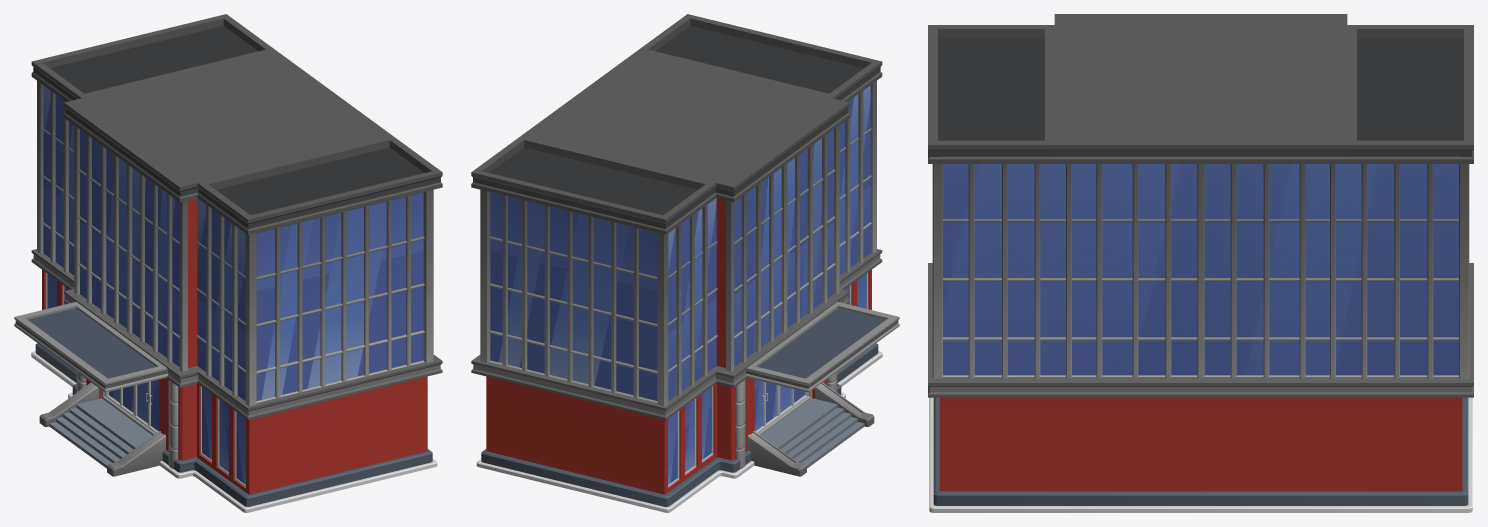
The model's file is Building_17_1_BB.fbx.
The picture shows the model from 3 angles, left to right: view 1: azimuth 30°, elevation 25°; view 2: azimuth 150°, elevation 25°; view 3: azimuth 270°, elevation 25°; orthographic projection. The views are drawn at different scales.
Visible parts, largest first — view 1: Building_17_1_BB; view 2: Building_17_1_BB; view 3: Building_17_1_BB.
Boxes of the visible parts, x1=… form: Building_17_1_BB: x1=14, y1=14, x2=442, y2=512; Building_17_1_BB: x1=471, y1=14, x2=899, y2=512; Building_17_1_BB: x1=928, y1=14, x2=1473, y2=512.
Bounding box in the file's own units: 857 × 875 × 1168.
